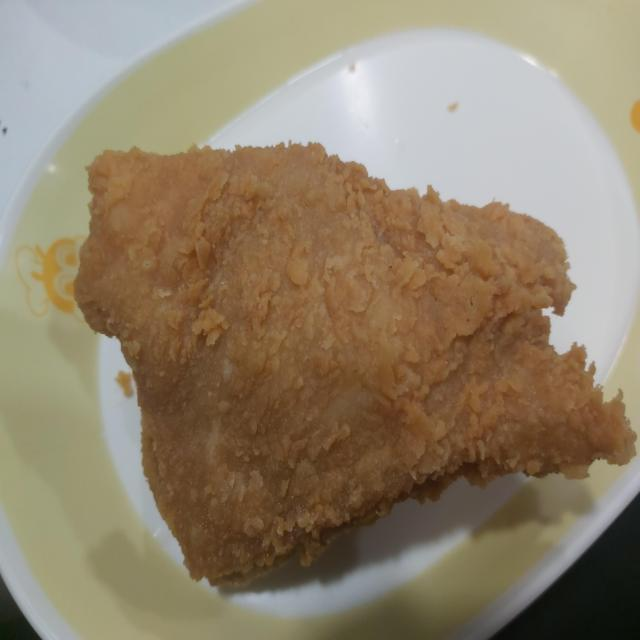Chicken -Fried Chicken-: (69, 130, 608, 584)
